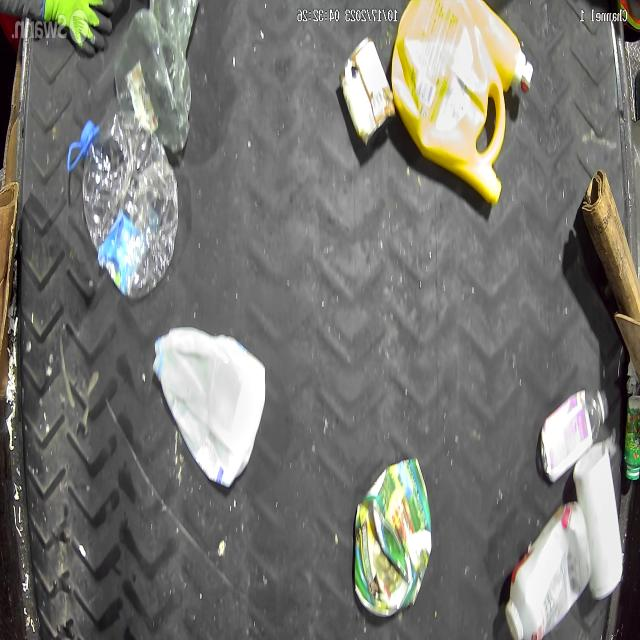can: (340, 36, 396, 149)
milk_jug: (149, 325, 267, 485)
non_white_jug: (392, 2, 518, 209), (352, 455, 432, 615)
plastic_bottle: (80, 111, 175, 297)
